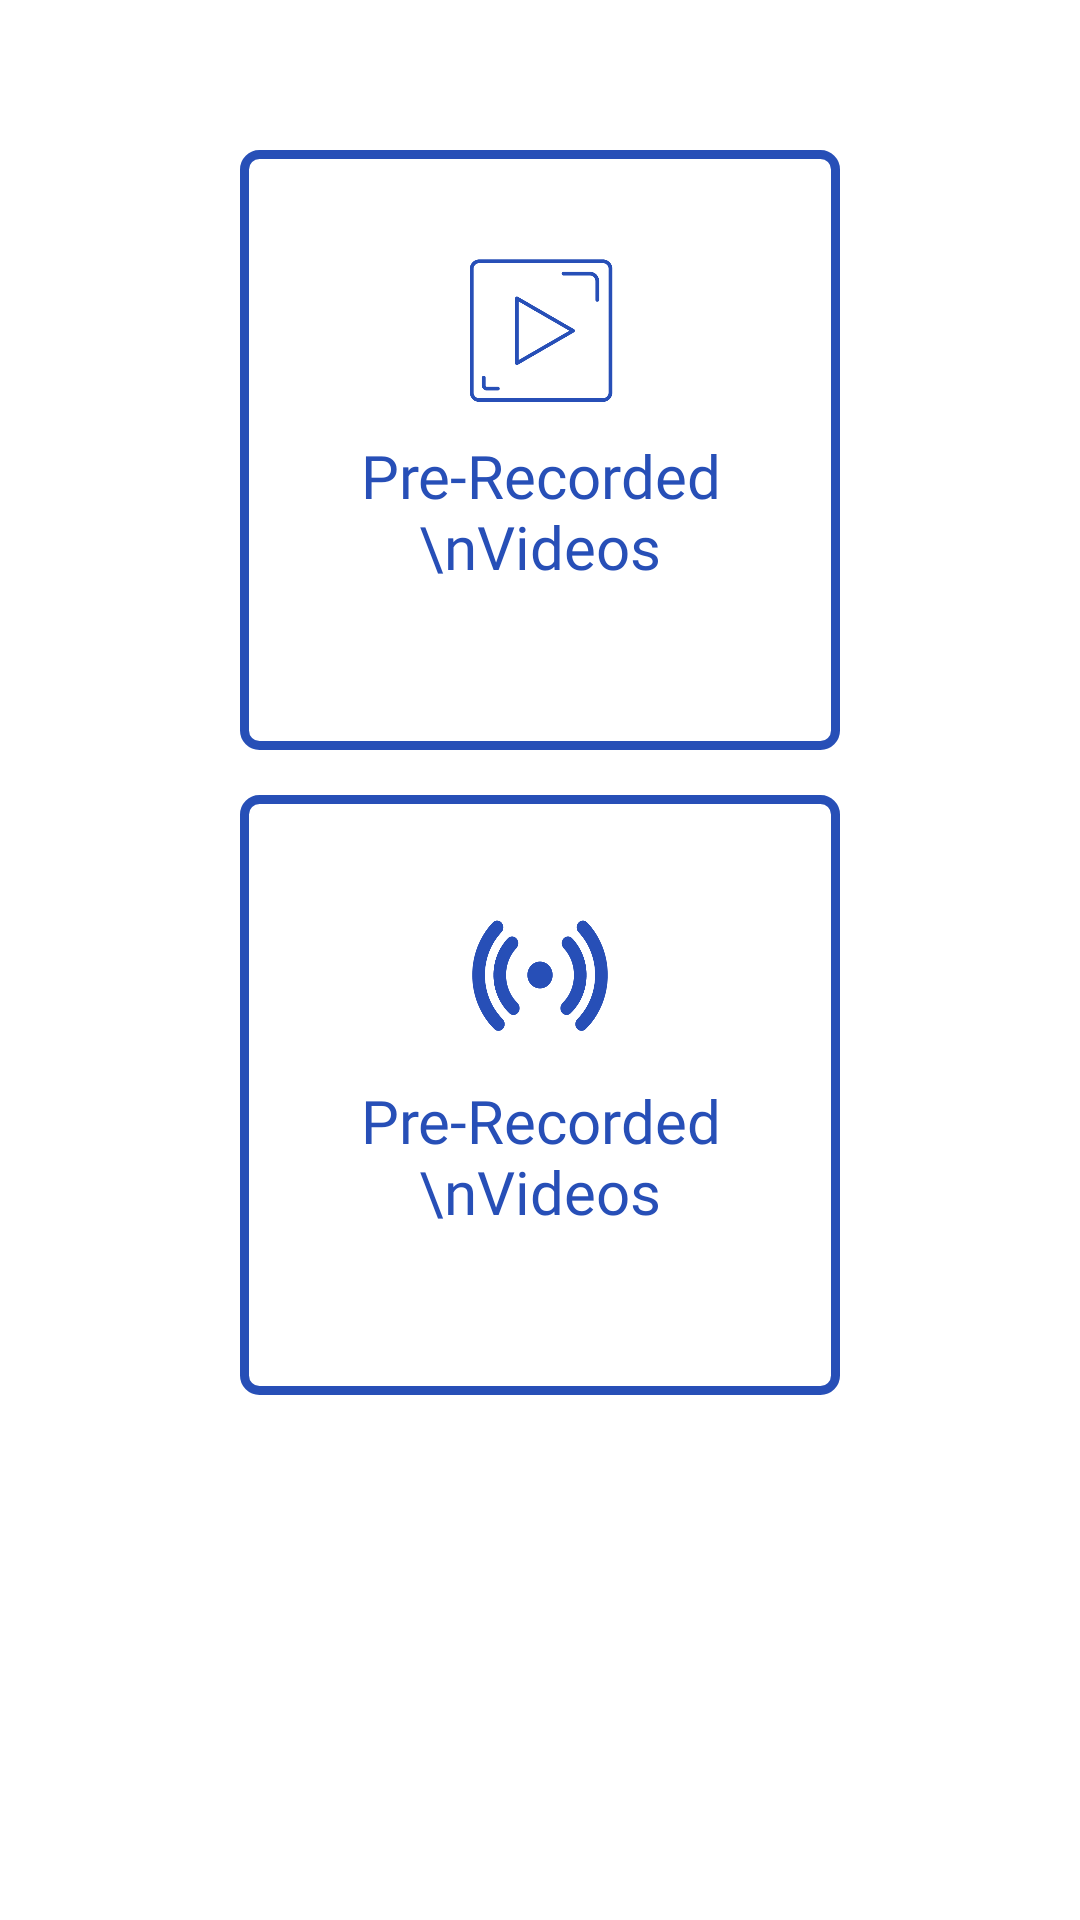

Point at icon controls on the screen. Image size 1080 × 1920, points as (x,y).
demolive: (540,975)
demoyt: (541,330)
